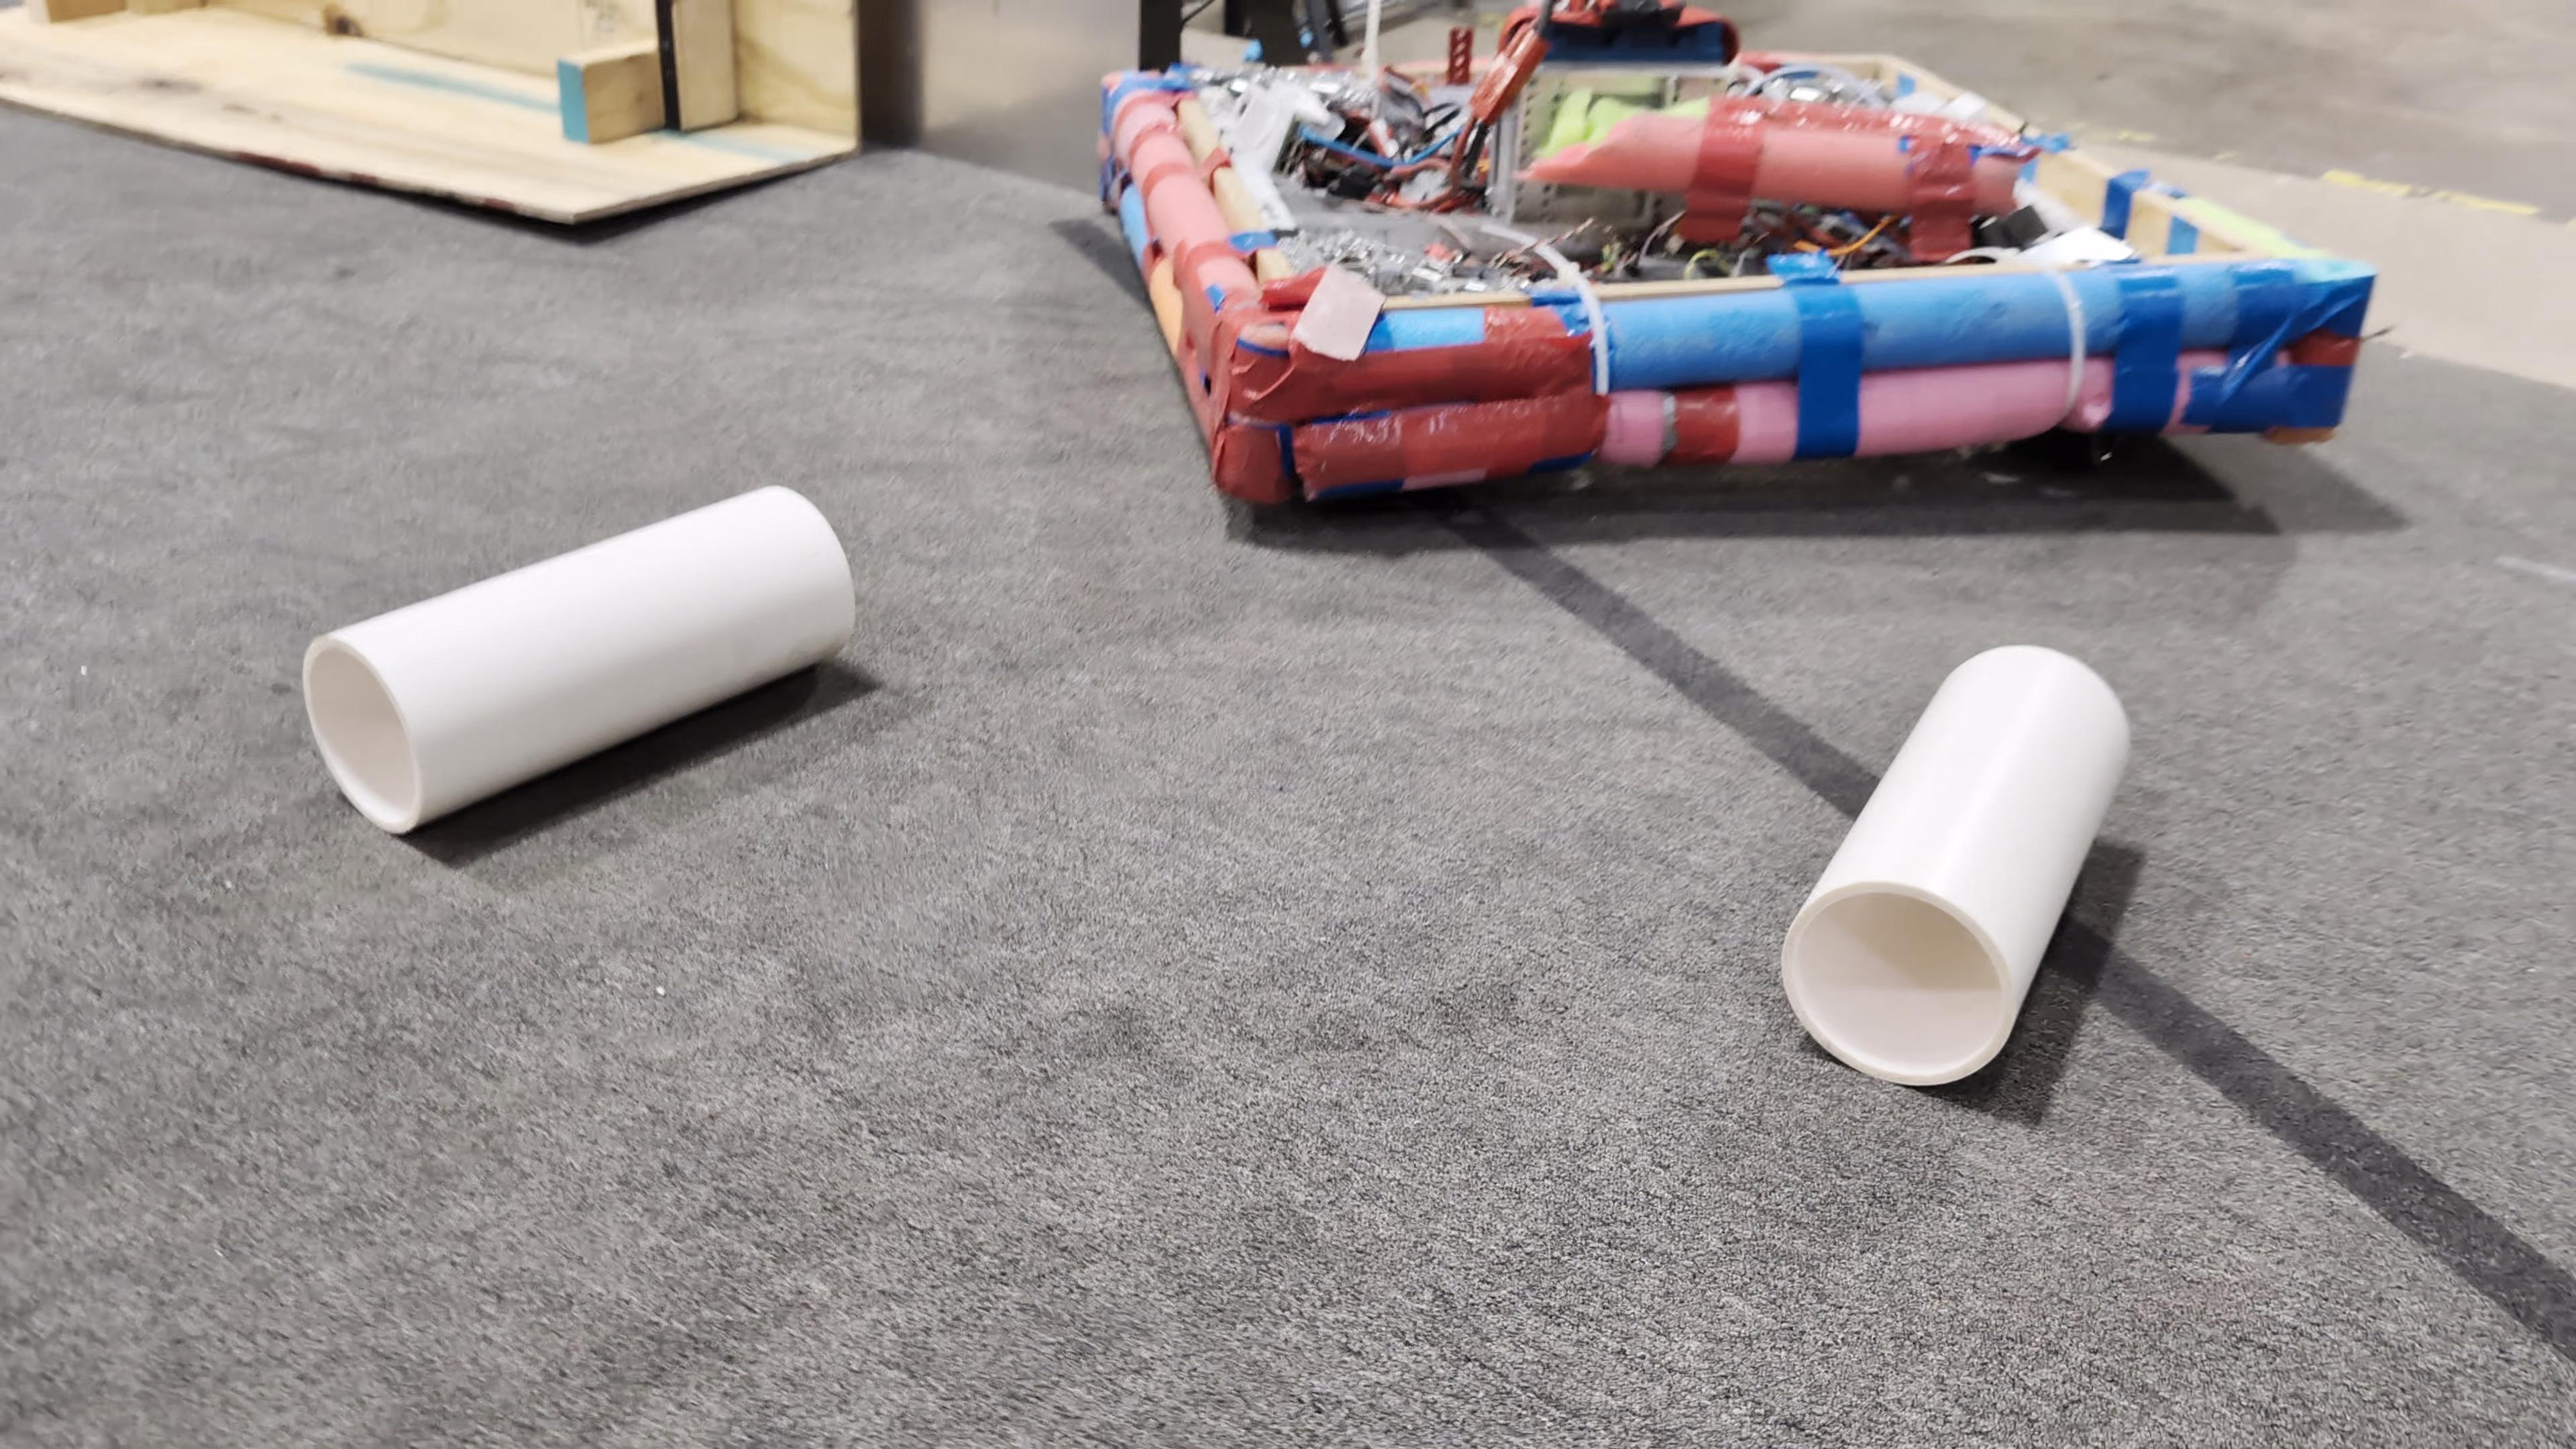coral: (299, 479, 858, 833), (1780, 639, 2134, 1085)
